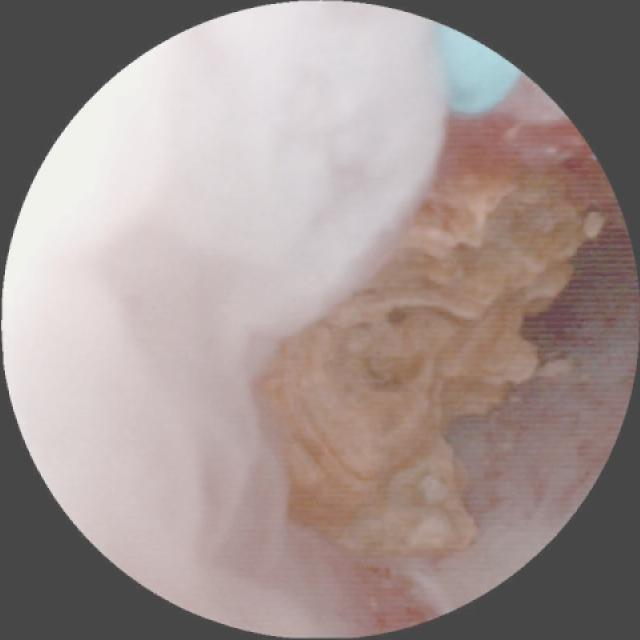fiber: (439, 29, 517, 110)
stone: (262, 168, 599, 570)
tissue: (10, 8, 434, 622)
